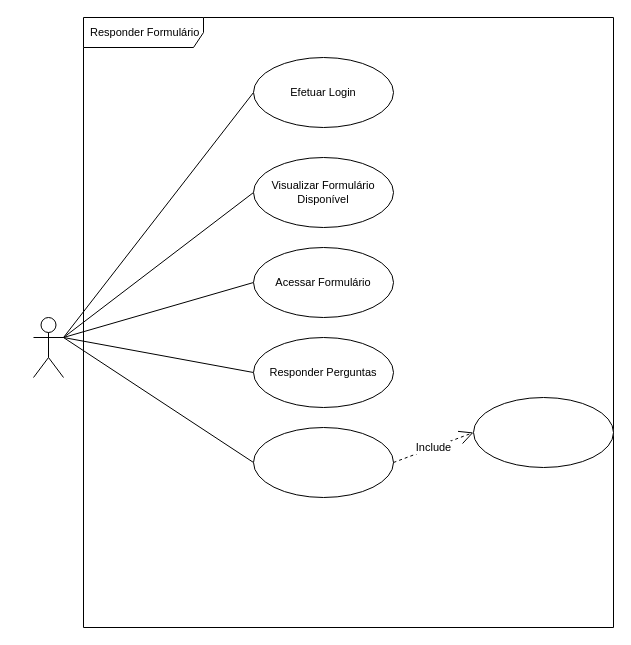
This 631x645 diagram has some shape labels left out. The centre of each missing label's shape, as x and y in pixels:
Finalizar Formulário: pixel 323 462
Funcionario: pixel 48 347
Obter Potuação: pixel 543 432
